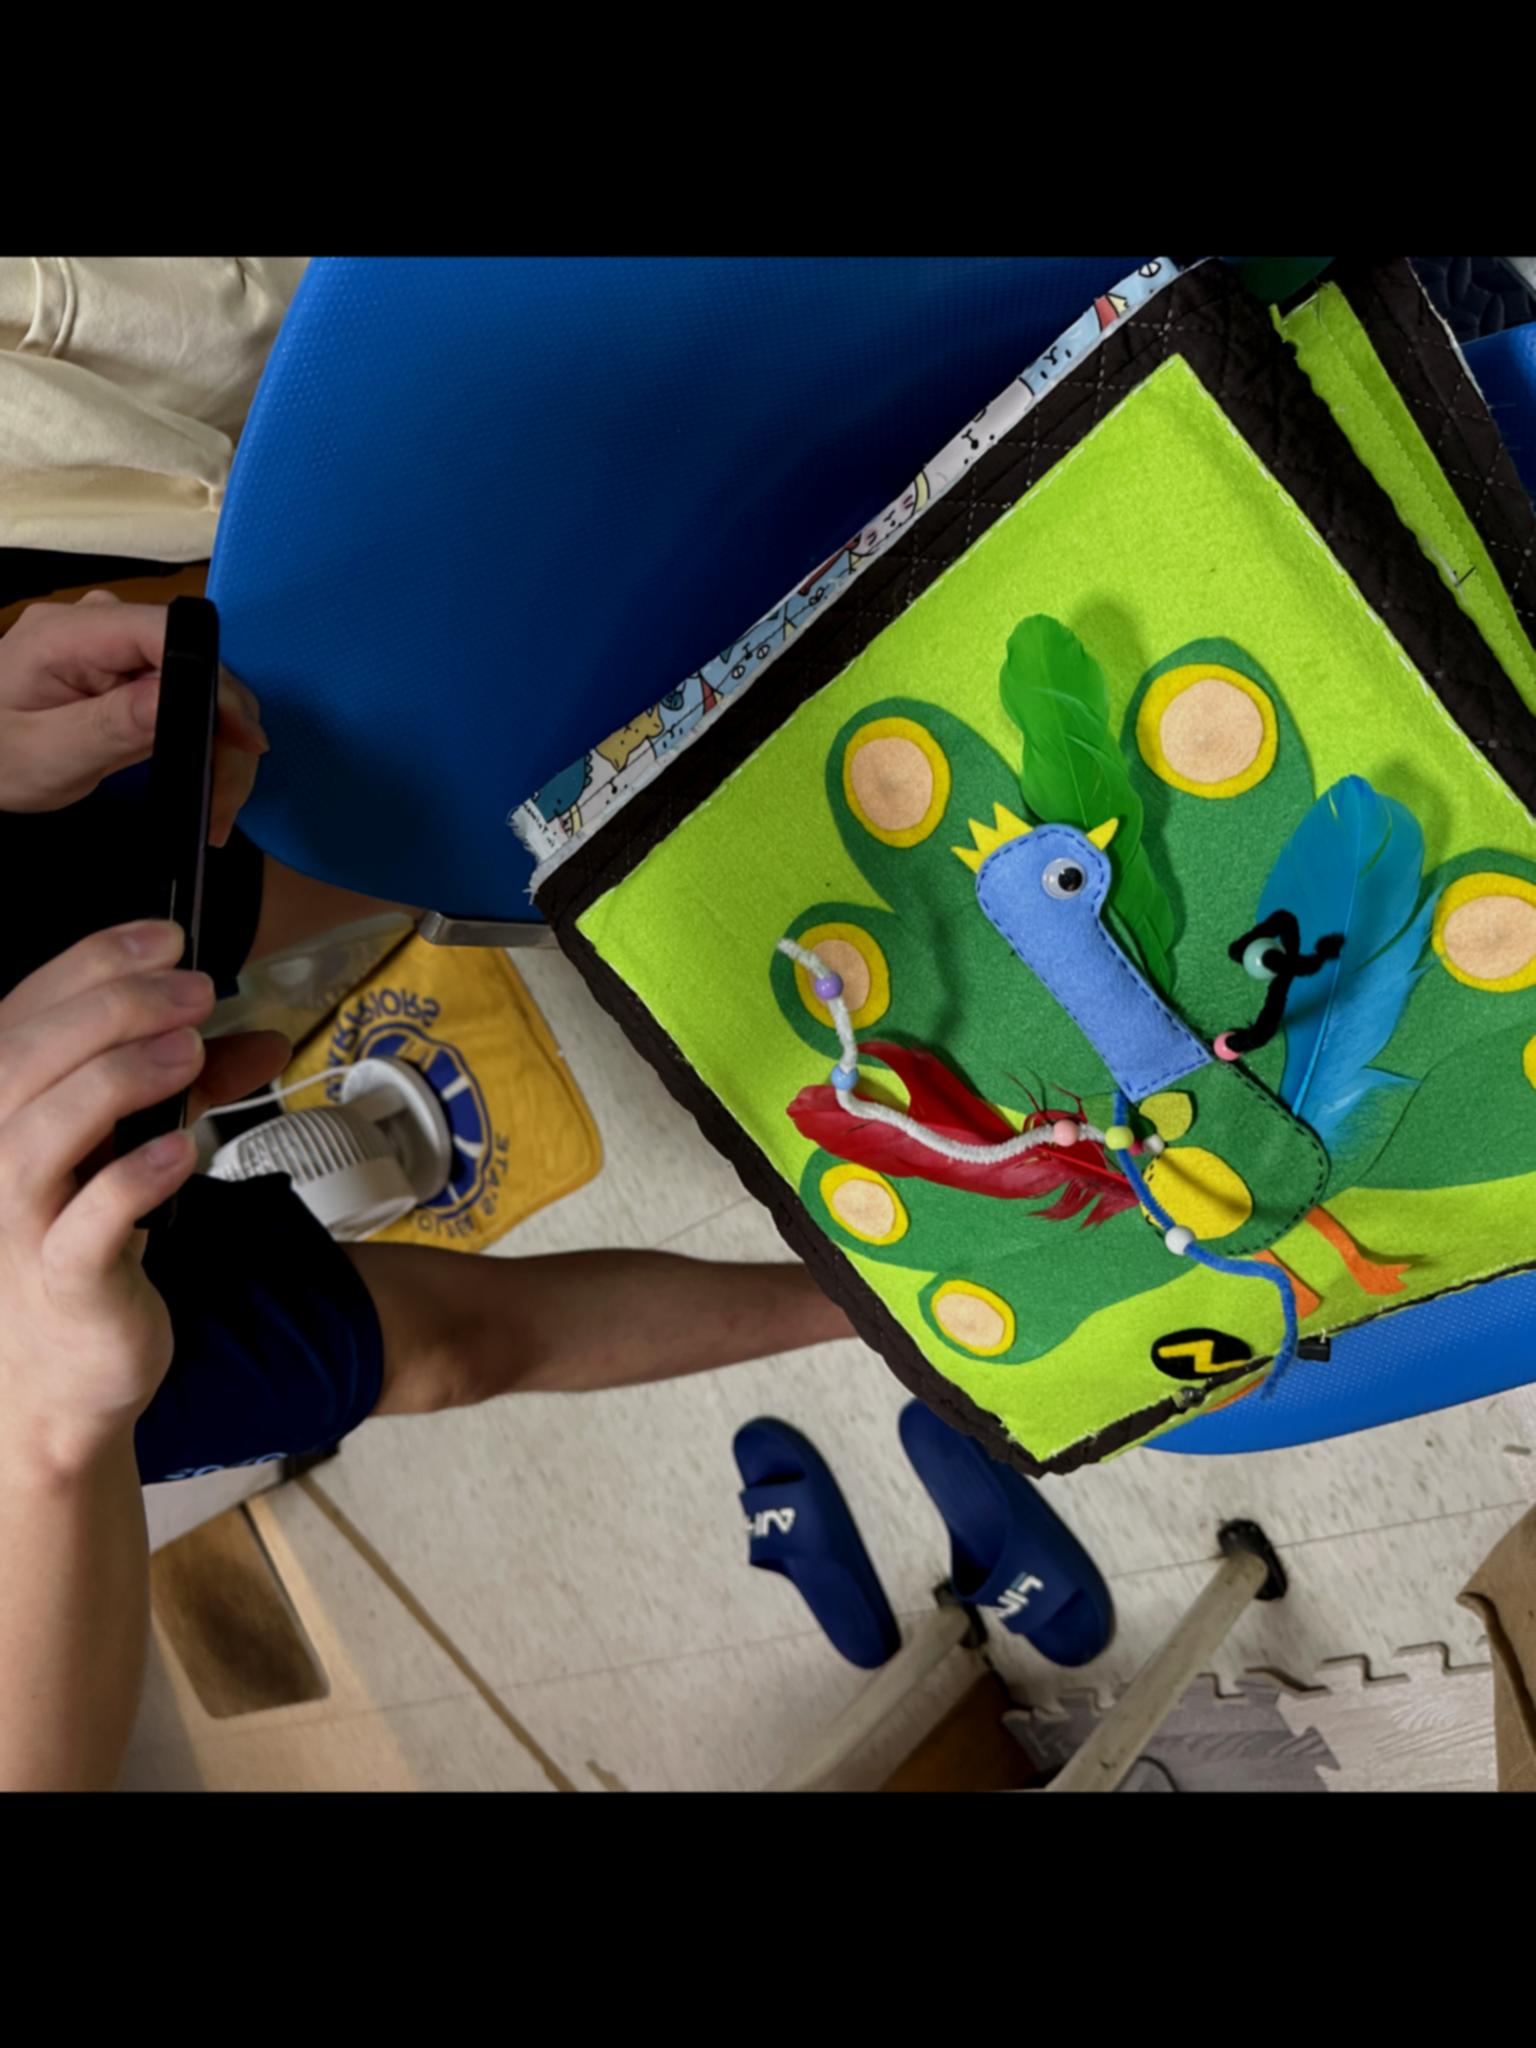bead: (1244, 934, 1284, 989), (799, 961, 852, 1001), (1046, 1114, 1086, 1151), (1158, 1219, 1199, 1251), (828, 1064, 866, 1097), (1094, 1119, 1129, 1153), (1210, 1027, 1242, 1064)
